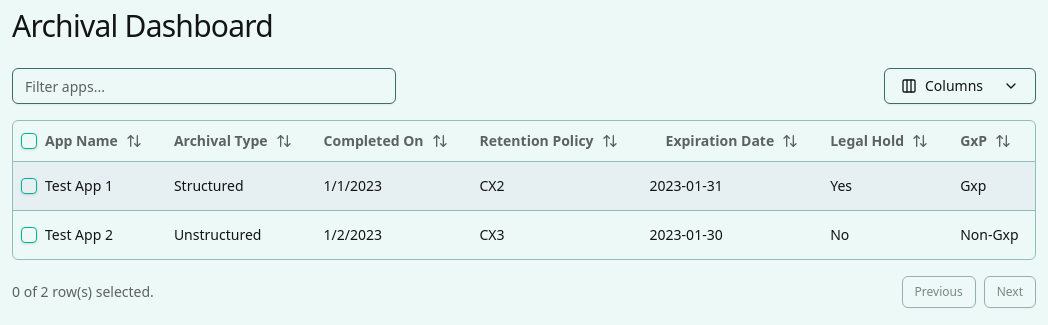
Dashboard Component › allows filtering table data by app name
Expected: the text "Test App 1" is shown, [45, 176, 113, 194]
Expected: the text "Test App 2" is shown, [45, 224, 113, 244]
Type "Test App 1" into the field with placeholder "Filter apps..." at (204,86), box [12, 68, 396, 104]
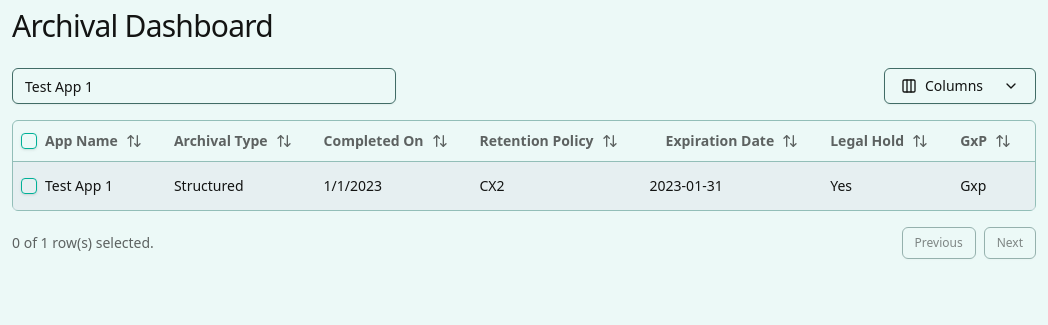
Expected: the text "Test App 1" is shown, [45, 176, 113, 194]
Now the text "Test App 2" is gone
